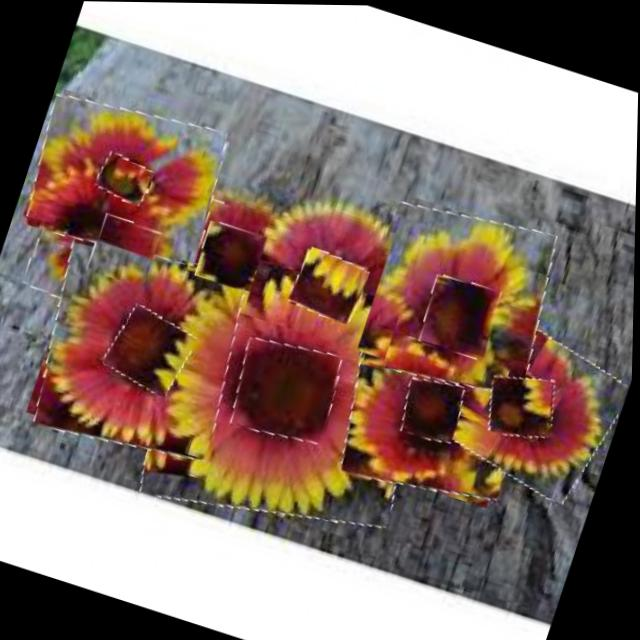Flower: (113, 226, 452, 557), (21, 226, 261, 473), (352, 188, 569, 406), (416, 301, 635, 503), (21, 145, 233, 344), (18, 85, 236, 275), (329, 319, 539, 513), (230, 175, 432, 360), (225, 330, 349, 450), (102, 303, 200, 399), (416, 271, 503, 361), (482, 364, 566, 445), (288, 245, 372, 325), (87, 213, 163, 290), (194, 220, 270, 294), (396, 370, 470, 445), (94, 152, 156, 207)
